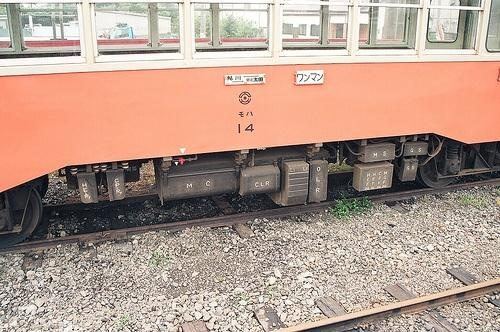train: (1, 2, 500, 246)
